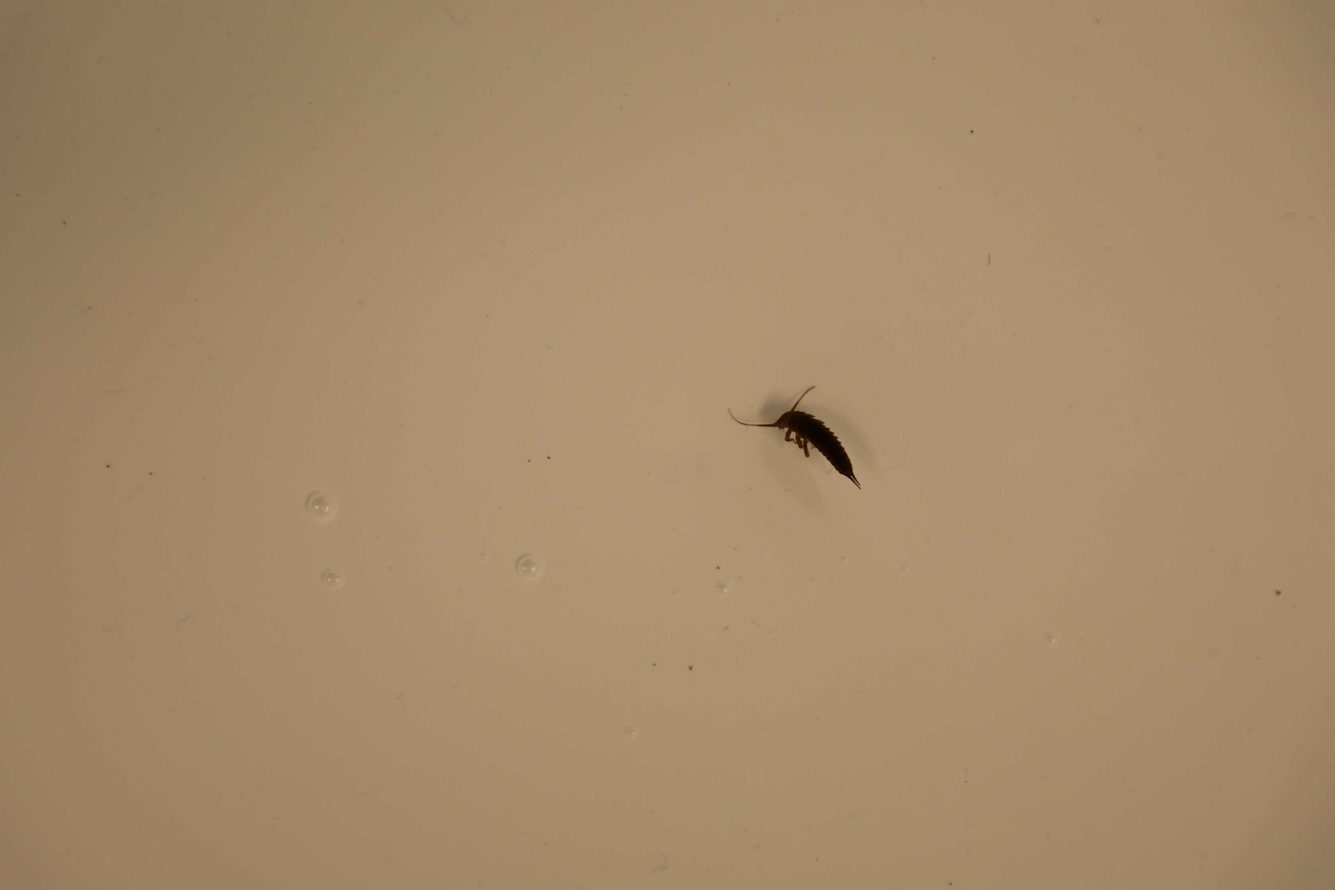Stonefly: (722, 386, 869, 494)
